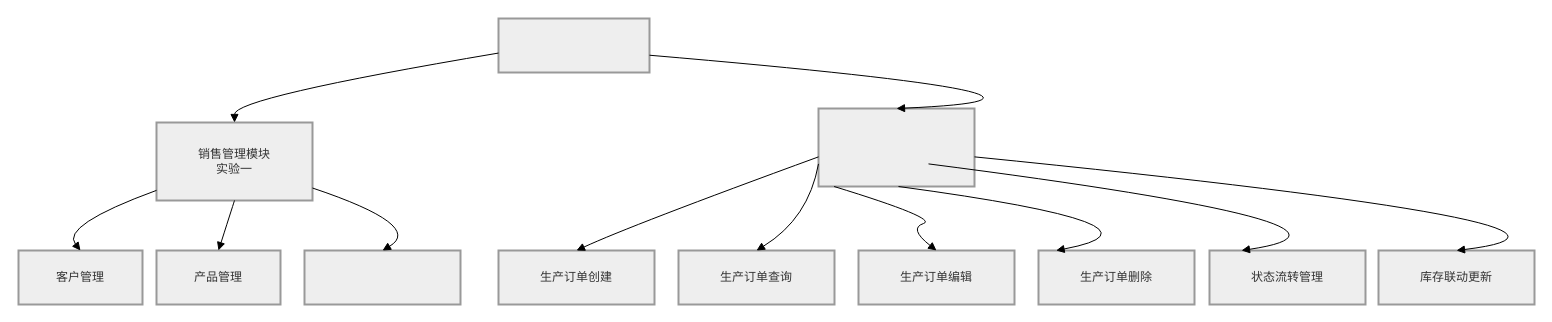
Image size: 1552x322. Some labels were removed from this diagram. Here are the shapes that lost their labels. From the top down, the centre of each, then its label:
At [573,45]: "简易ERP系统".
At [896,147]: "生产管理模块 实验二".
At [382,277]: "销售订单管理".
